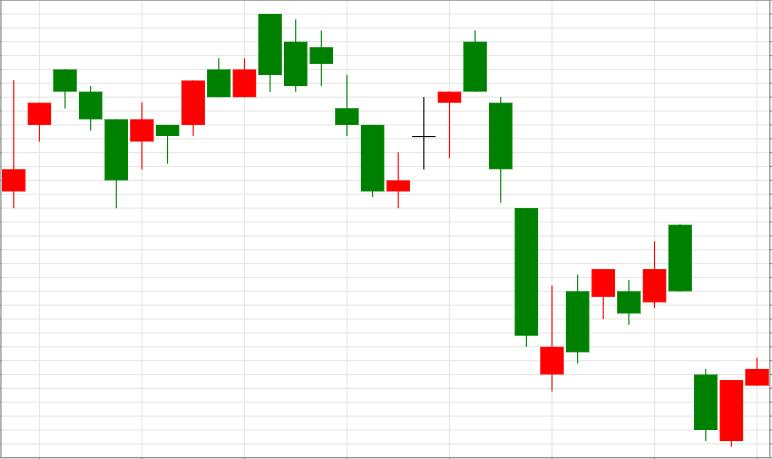inverse_hammer_rise: (464, 29, 564, 391)
three_black_crows_fall: (387, 29, 537, 346), (2, 69, 128, 208)
